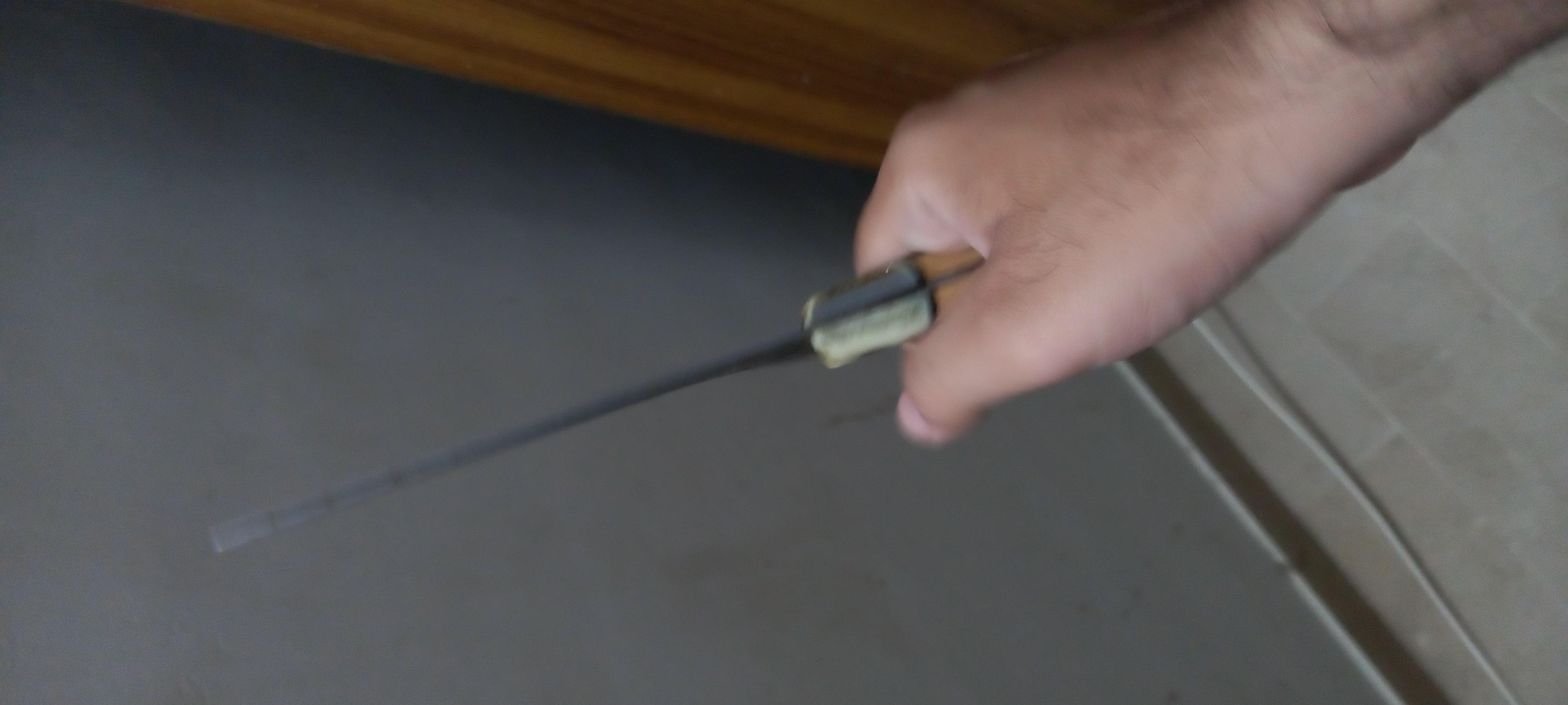knives: (295, 84, 1105, 497)
